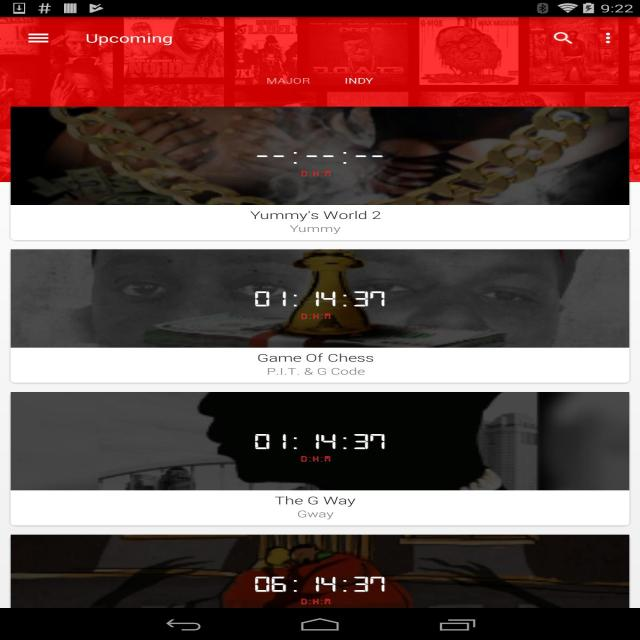button: (12, 249, 630, 383), (12, 391, 629, 525), (12, 106, 628, 239), (324, 71, 389, 92), (253, 72, 320, 91), (596, 27, 622, 49), (550, 29, 577, 47), (26, 30, 55, 45)
heading: (84, 30, 173, 46)
image: (13, 249, 629, 348), (13, 393, 628, 491), (13, 108, 629, 204), (12, 535, 629, 608)
text: (248, 209, 385, 235), (256, 352, 376, 376), (272, 493, 357, 520)
